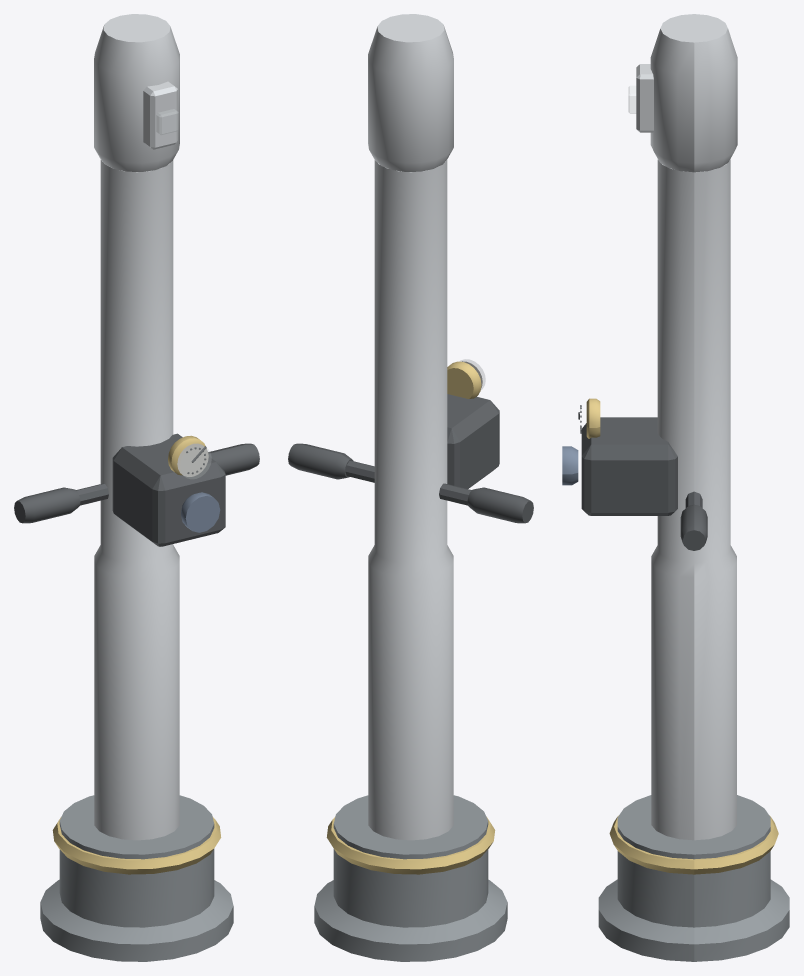
The model's file is submarine-interior-and-control-room-search-periscope-8477413d__36476.glb.
The picture shows the model from 3 angles, left to right: view 1: azimuth 30°, elevation 25°; view 2: azimuth 150°, elevation 25°; view 3: azimuth 270°, elevation 25°; orthographic projection.
Parts seen in each view (by area): view 1: search-periscope, head/metal, grip-port, grip-stbd; view 2: search-periscope, head/metal, grip-port, grip-stbd; view 3: search-periscope, head/metal, grip-stbd.
Boxes of the visible parts, x1,y1,x2,y2 form: search-periscope: (40, 159, 233, 961); head/metal: (94, 14, 179, 171); grip-port: (14, 483, 108, 523); grip-stbd: (208, 443, 259, 475); search-periscope: (314, 159, 507, 961); head/metal: (368, 14, 453, 171); grip-port: (439, 483, 533, 523); grip-stbd: (288, 443, 374, 482); search-periscope: (562, 159, 789, 961); head/metal: (636, 14, 737, 172); grip-stbd: (680, 491, 707, 550).
Size of the model in its own units: 0.84 by 3.06 by 0.707.
